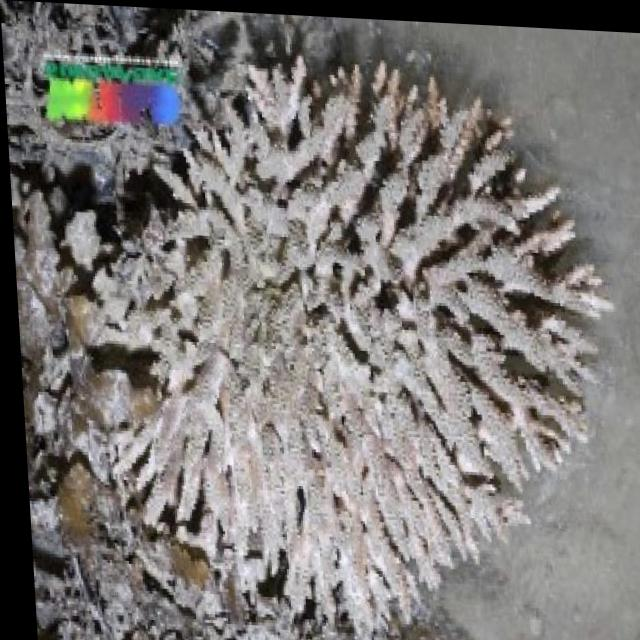Bleached Coral: (54, 2, 625, 640)
